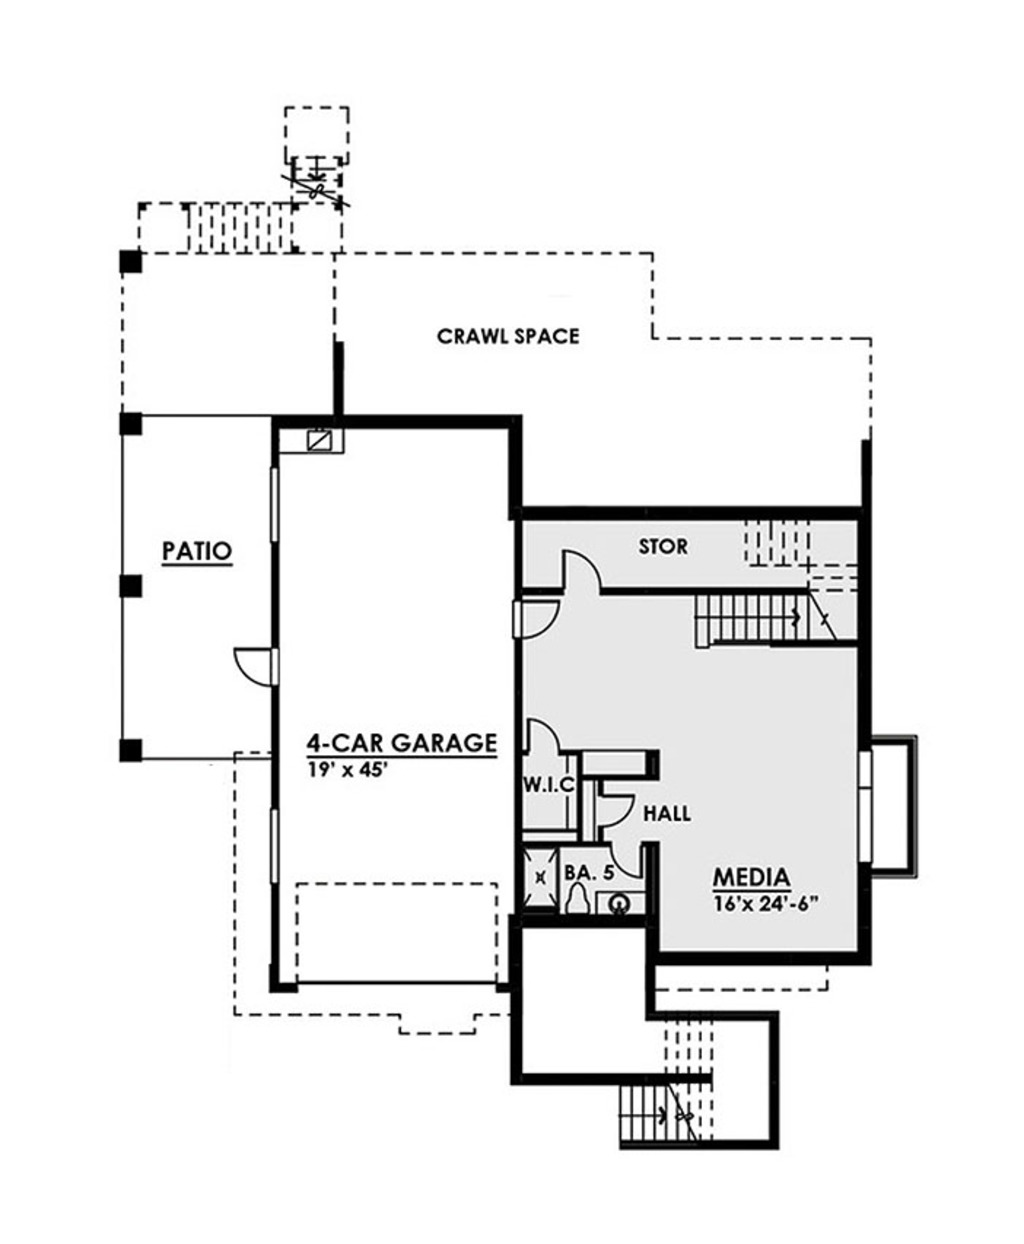door: (229, 643, 286, 693), (506, 595, 560, 645), (558, 545, 607, 597), (522, 715, 569, 761), (608, 841, 649, 884), (598, 790, 637, 830)
large_sink: (560, 880, 594, 914)
small_sink: (593, 891, 645, 915)
stairs: (686, 590, 862, 657), (611, 1072, 747, 1149)
windows: (849, 747, 881, 862), (265, 801, 285, 890), (265, 462, 283, 549)
